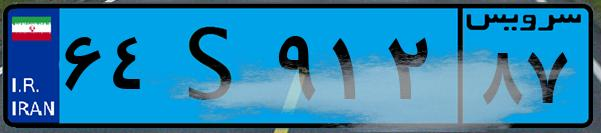1: (330, 28, 385, 110)
2: (385, 28, 445, 110)
4: (110, 28, 158, 98)
6: (57, 26, 110, 100)
7: (525, 38, 570, 115)
8: (475, 38, 525, 113)
9: (270, 28, 330, 110)
S: (158, 12, 270, 120)
